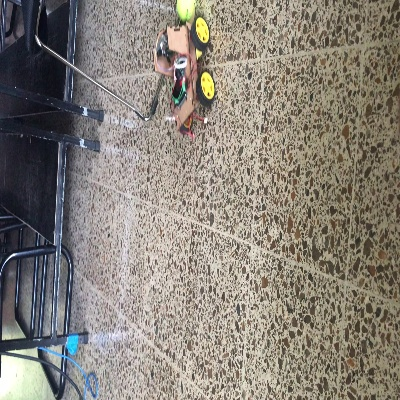Ball: (176, 0, 196, 16)
Robot: (154, 18, 215, 133)
